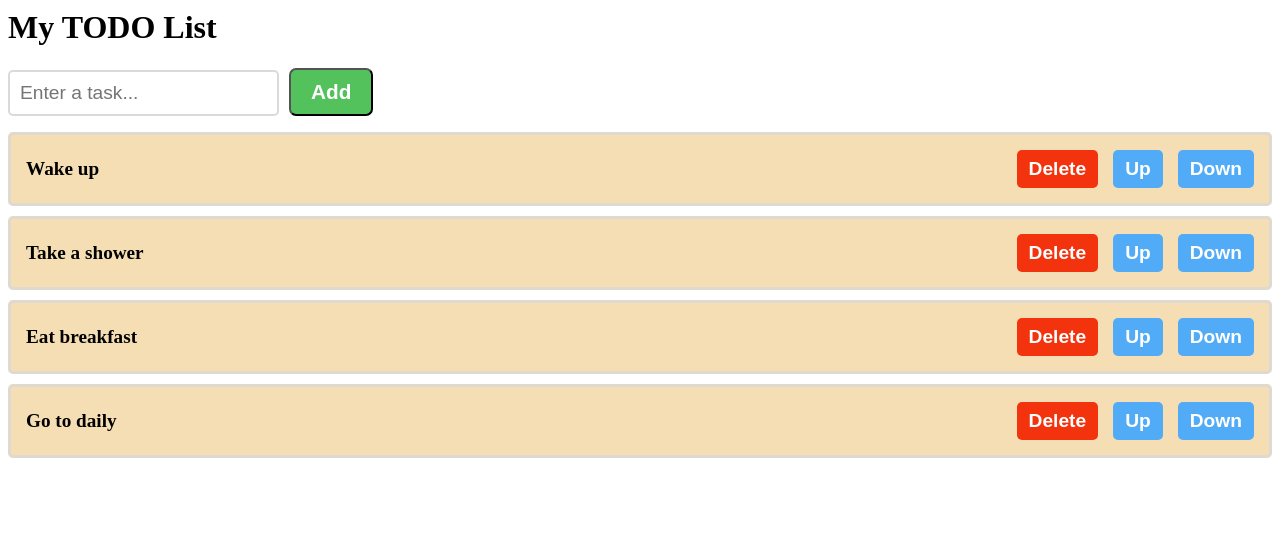
Test case: Todo List component › State manipulation tests › should be able to add a todo task using add button
Step 1. Type "Write cypress tests" into the element with test id "task-input-section" → (191, 92), box [8,68,373,116]
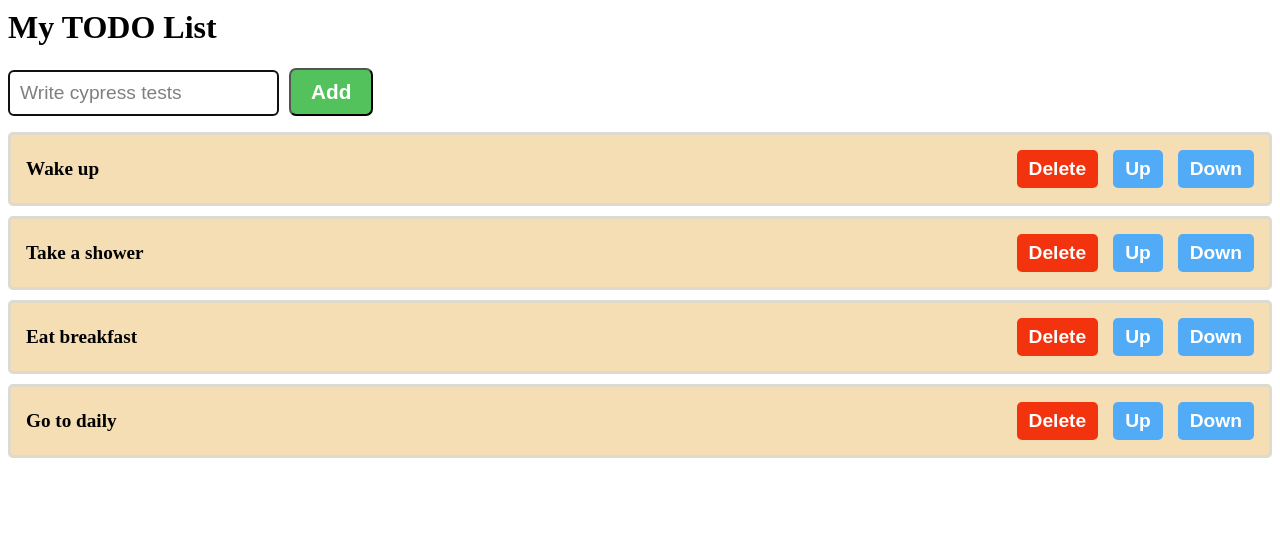
Step 2. Click the button "Add" → (331, 92), box [289,68,373,116]
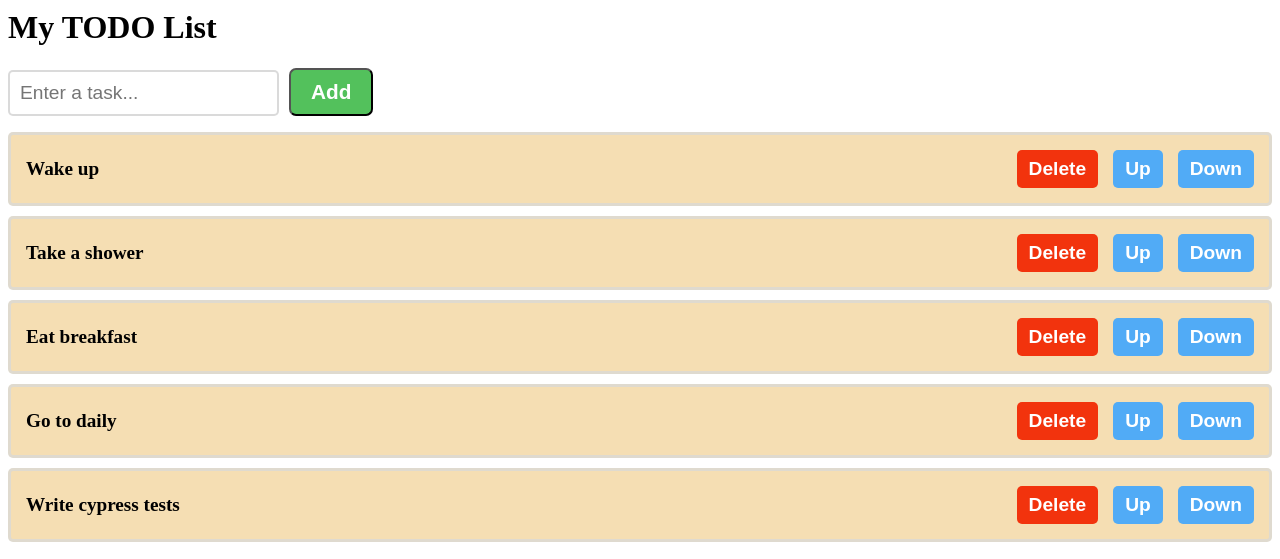
Result: the number of list items is 5 at [8,132,1272,206]; [8,216,1272,290]; [8,300,1272,374]; [8,384,1272,458]; [8,468,1272,542]
Result: the text "Write cypress tests" is shown at [26,494,180,515]
